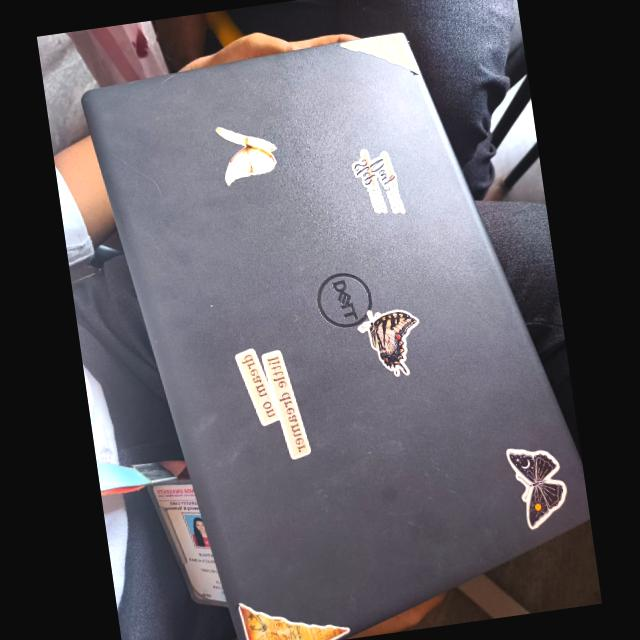laptop: (66, 0, 601, 640)
